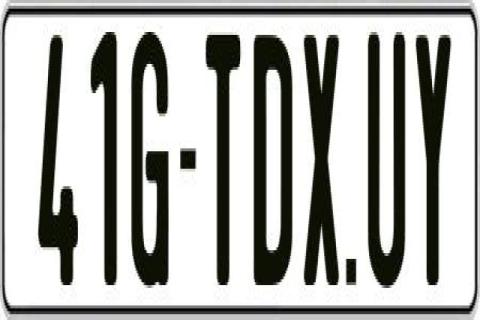0: (35, 29, 79, 294), (88, 29, 116, 297)
D: (254, 29, 296, 294)
G: (129, 29, 169, 282)
T: (204, 29, 239, 291)
U: (368, 26, 411, 300)
X: (302, 35, 340, 288)
Y: (416, 32, 457, 296)
